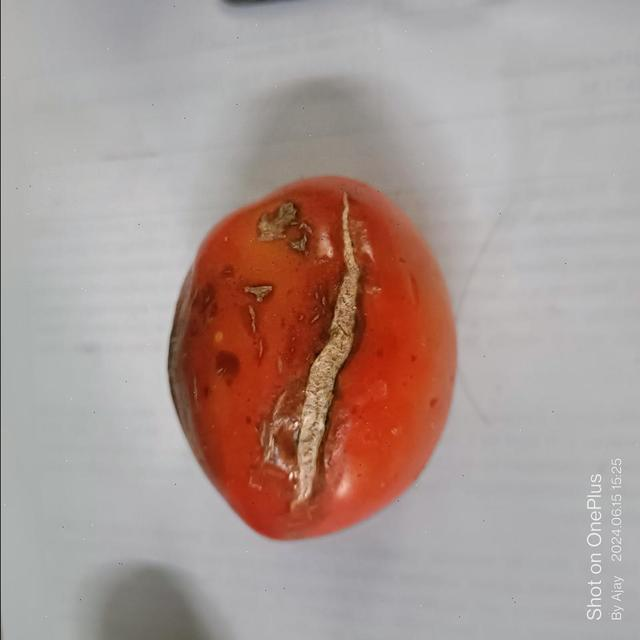Cracking Fruit: (122, 122, 362, 255)
